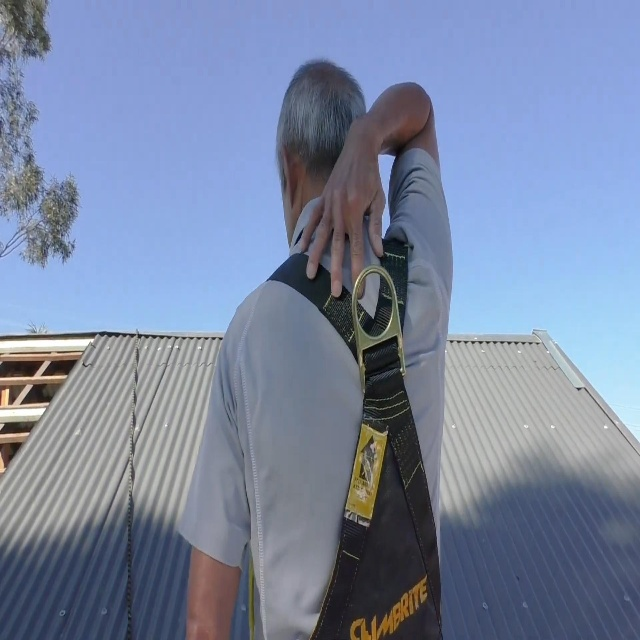Arnes_seguridad: (255, 218, 444, 640)
